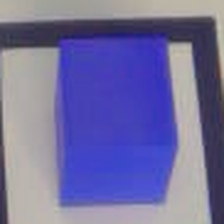cube: (45, 28, 194, 215)
